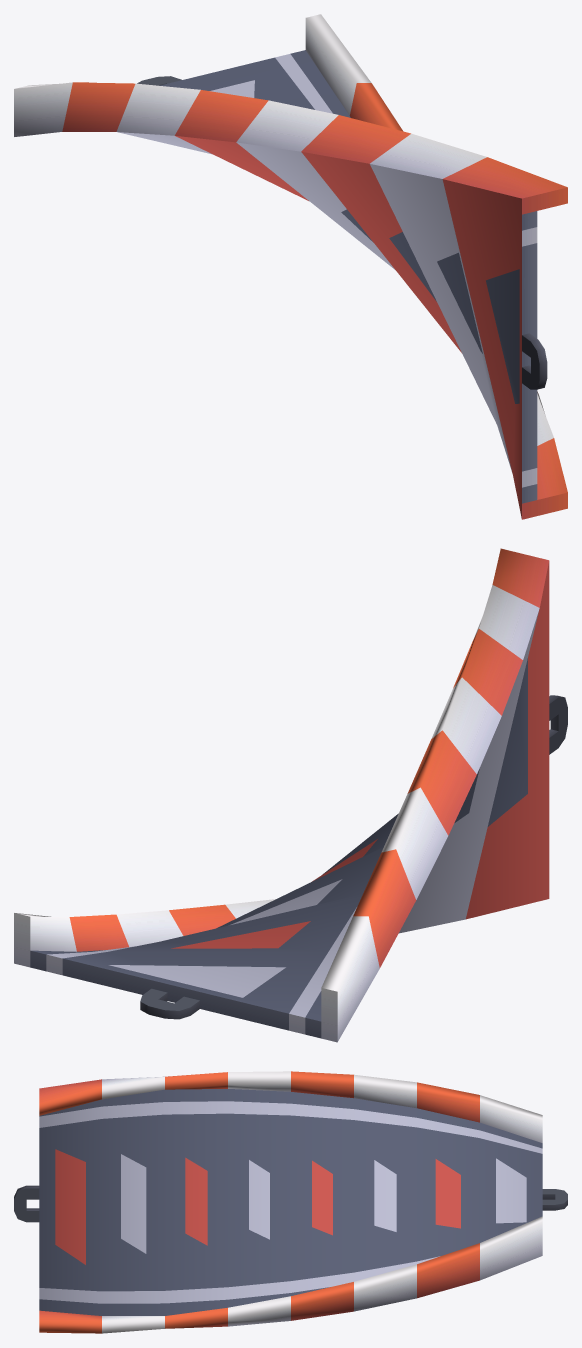
Rendered from track-road-wide-straight-skew-left-side.glb.
The picture shows the model from 3 angles, top to bottom: view 1: azimuth 30°, elevation 25°; view 2: azimuth 150°, elevation 25°; view 3: azimuth 270°, elevation 25°; orthographic projection. The views are drawn at different scales.
Visible parts, largest first — view 1: track-road-wide-straight-skew-left-side; view 2: track-road-wide-straight-skew-left-side; view 3: track-road-wide-straight-skew-left-side.
Part boxes in pixels (x1=…): track-road-wide-straight-skew-left-side: x1=14, y1=14, x2=567, y2=519; track-road-wide-straight-skew-left-side: x1=14, y1=548, x2=567, y2=1042; track-road-wide-straight-skew-left-side: x1=14, y1=1071, x2=567, y2=1333.
Size of the model in its own units: 2.04 by 2.04 by 4.4.
1 material, 1 textured.
